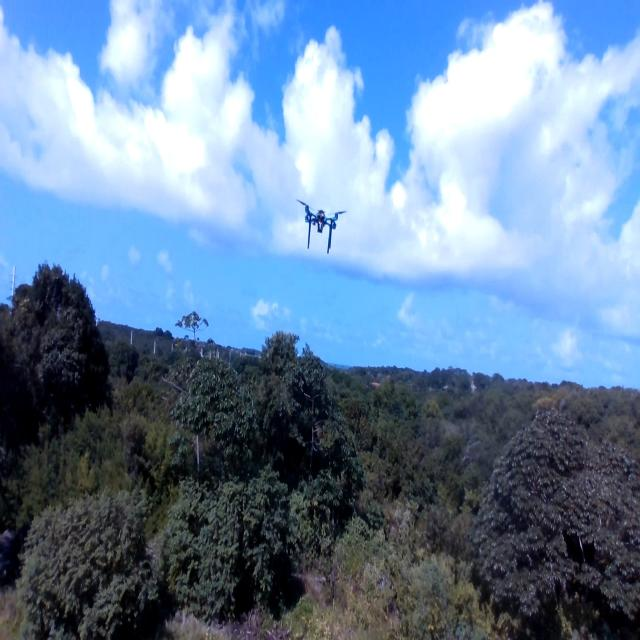-uav-: (288, 179, 354, 262)
